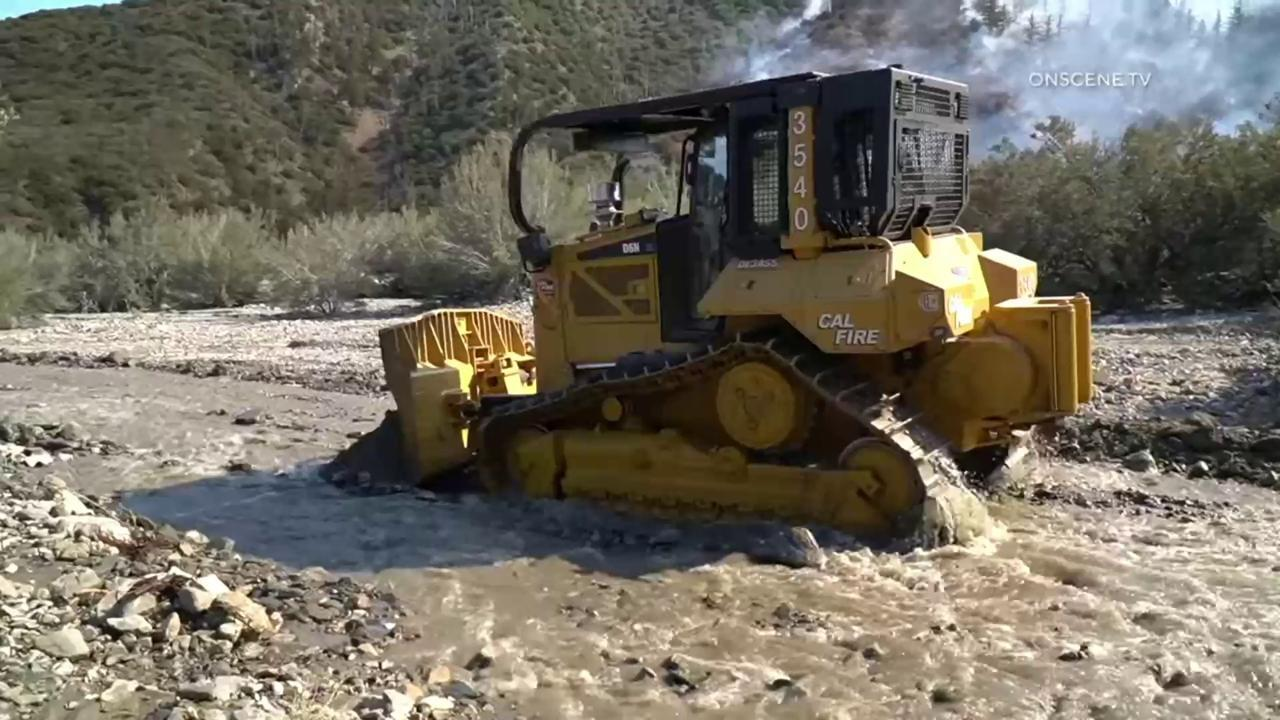smoke: (704, 0, 1280, 168)
